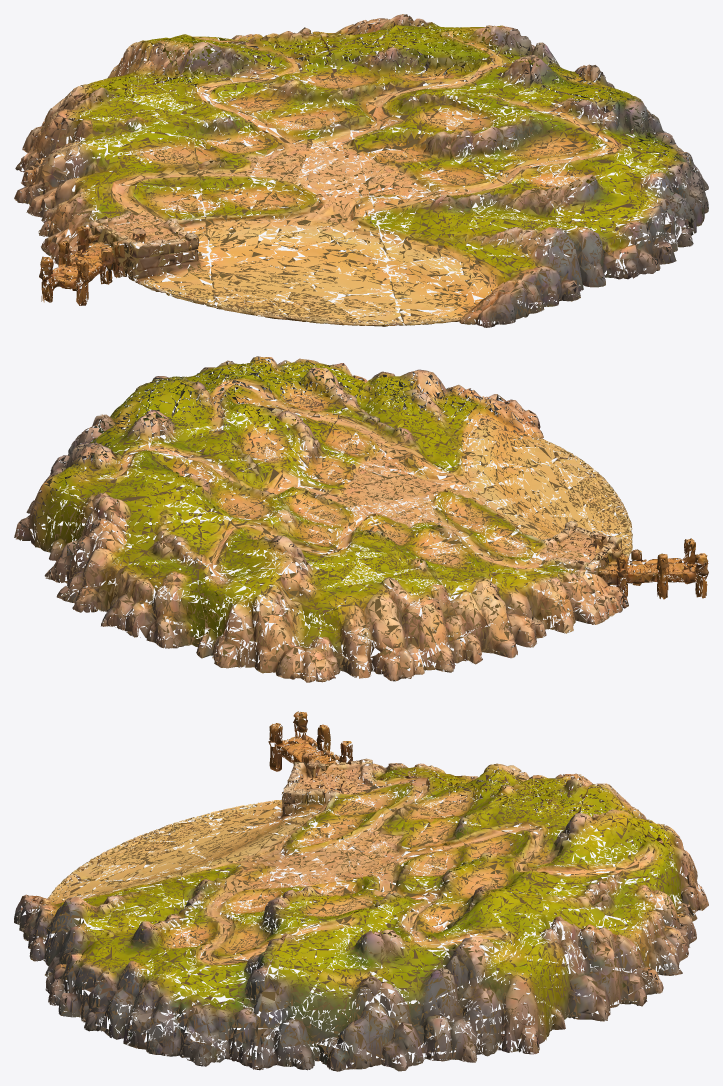
Rendered from Ilha_Colisao.fbx.
3 views of the same model, one above another, from view 1: azimuth 30°, elevation 25°; view 2: azimuth 150°, elevation 25°; view 3: azimuth 270°, elevation 25° (orthographic). The views are drawn at different scales.
Visible parts, largest first — view 1: Ilha_018_Colisao; view 2: Ilha_018_Colisao; view 3: Ilha_018_Colisao.
Boxes of the visible parts, x1=… form: Ilha_018_Colisao: x1=14, y1=14, x2=708, y2=327; Ilha_018_Colisao: x1=14, y1=356, x2=708, y2=682; Ilha_018_Colisao: x1=14, y1=711, x2=708, y2=1071.
Size of the model in its own units: 98.05 by 13.29 by 90.51.
Materials: 1 (1 with a texture image).
